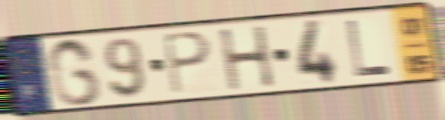4: (293, 17, 341, 88)
9: (104, 35, 149, 102)
G: (45, 36, 105, 109)
H: (216, 22, 278, 93)
L: (344, 18, 394, 80)
P: (160, 30, 214, 98)
